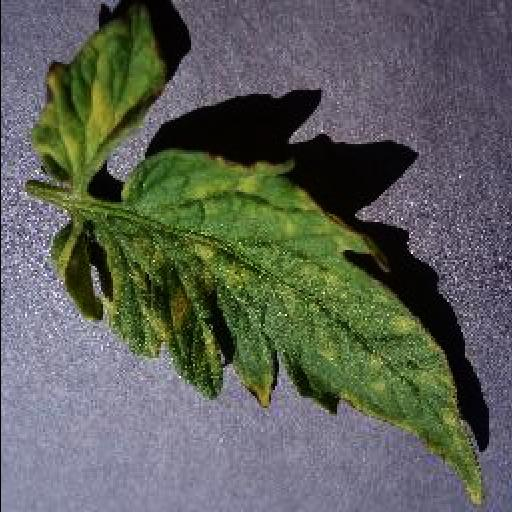disease_tomato: (106, 152, 484, 508), (30, 0, 172, 188)
